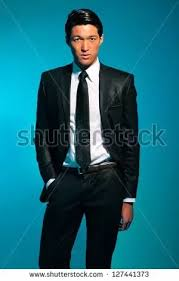asian_male: (55, 9, 113, 74)
